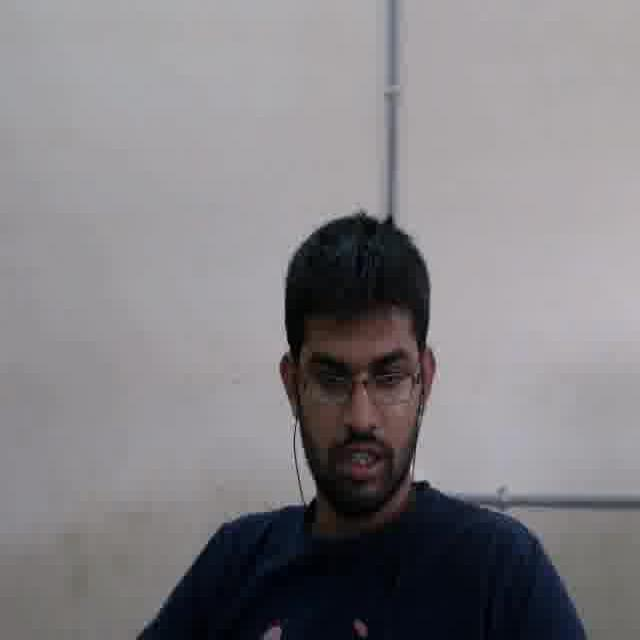Engaged: (291, 303, 418, 505)
